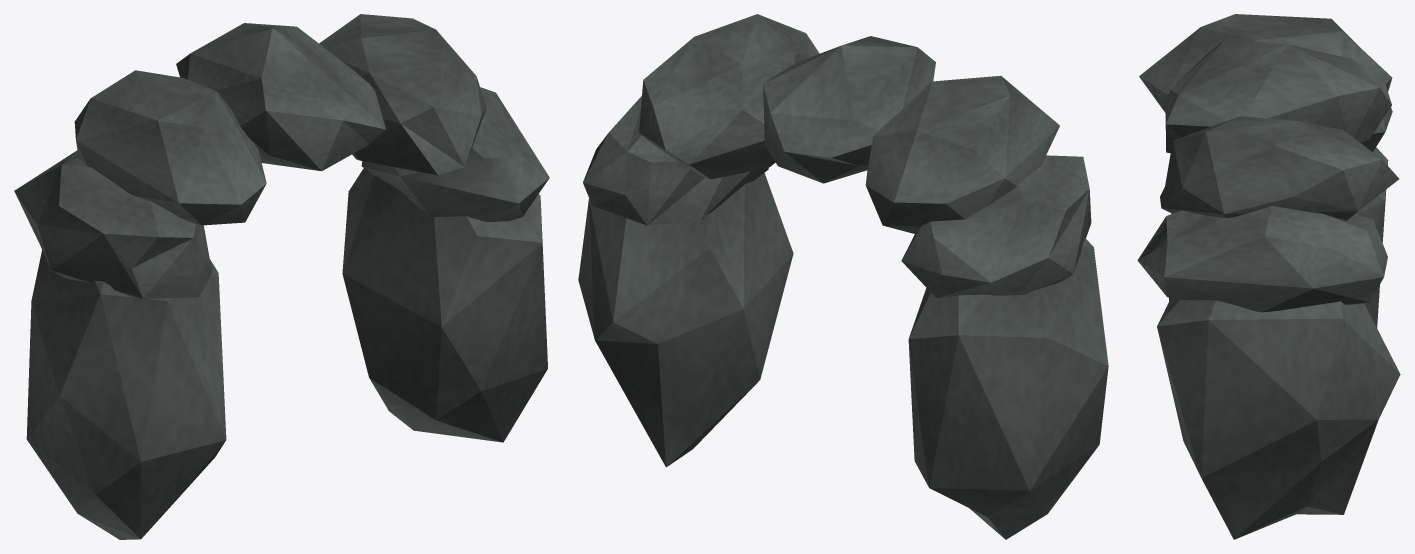
File: rocks.sea_cave.lod1.glb
The picture shows the model from 3 angles, left to right: view 1: azimuth 30°, elevation 25°; view 2: azimuth 150°, elevation 25°; view 3: azimuth 270°, elevation 25°; orthographic projection. The views are drawn at different scales.
Visible parts, largest first — view 1: ArchPier, ArchPier.001, ArchCrown.003, ArchCrown.002, ArchCrown.004, ArchCrown.001, ArchCrown; view 2: ArchPier, ArchPier.001, ArchCrown.003, ArchCrown.001, ArchCrown.004, ArchCrown.002, ArchCrown; view 3: ArchPier.001, ArchCrown, ArchCrown.001, ArchCrown.002, ArchCrown.003, ArchPier, ArchCrown.004.
Part boxes in pixels (left/top/right/bottom): ArchPier: left=26, top=250, right=226, bottom=539; ArchPier.001: left=342, top=167, right=547, bottom=442; ArchCrown.003: left=74, top=70, right=266, bottom=225; ArchCrown.002: left=176, top=23, right=385, bottom=171; ArchCrown.004: left=14, top=150, right=211, bottom=298; ArchCrown.001: left=319, top=14, right=486, bottom=175; ArchCrown: left=361, top=87, right=549, bottom=222; ArchPier: left=908, top=238, right=1108, bottom=539; ArchPier.001: left=578, top=173, right=793, bottom=467; ArchCrown.003: left=865, top=75, right=1059, bottom=234; ArchCrown.001: left=639, top=14, right=819, bottom=179; ArchCrown.004: left=901, top=155, right=1091, bottom=297; ArchCrown.002: left=763, top=36, right=935, bottom=183; ArchCrown: left=583, top=96, right=768, bottom=225; ArchPier.001: left=1157, top=298, right=1400, bottom=539; ArchCrown: left=1137, top=206, right=1387, bottom=312; ArchCrown.001: left=1160, top=116, right=1399, bottom=220; ArchCrown.002: left=1166, top=38, right=1391, bottom=142; ArchCrown.003: left=1139, top=14, right=1392, bottom=114; ArchPier: left=1169, top=147, right=1388, bottom=327; ArchCrown.004: left=1165, top=107, right=1392, bottom=153.
Size of the model in its own units: 10.63 by 9.64 by 5.36.
1 material, 1 textured.
